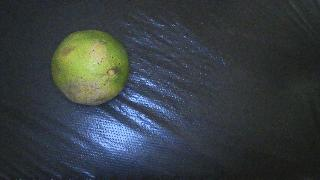DESECHO: (52, 30, 129, 105)
